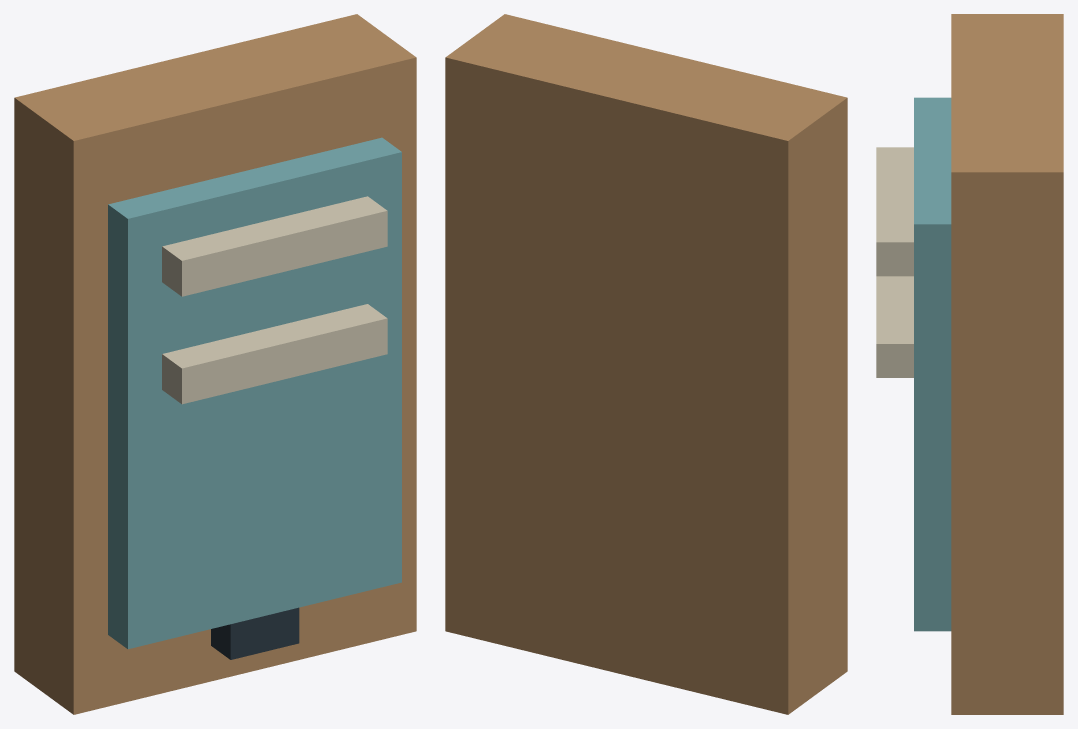
The model's file is marketing-08.glb.
3 views of the same model, side by side, from view 1: azimuth 30°, elevation 25°; view 2: azimuth 150°, elevation 25°; view 3: azimuth 270°, elevation 25° (orthographic). The views are drawn at different scales.
Parts seen in each view (by area): view 1: Social phone; view 2: Social phone; view 3: Social phone.
Part boxes in pixels (x1,y1,x2,y2): Social phone: (14, 14, 416, 714); Social phone: (445, 14, 847, 714); Social phone: (876, 14, 1063, 714).
Bounding box in the file's own units: 0.8 × 1.28 × 0.4.
